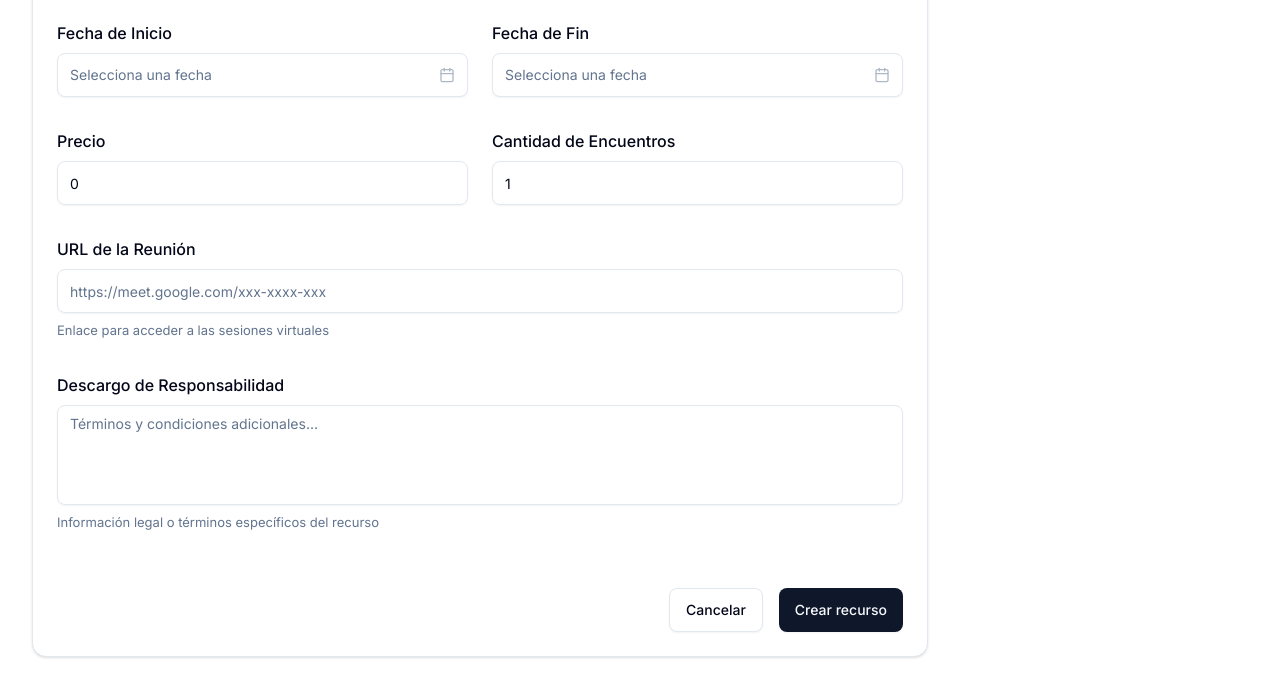
NewResourcePage › shows validation errors for required fields
(page scrolled)
Click the button "Crear recurso".
click(841, 610)  # box [779,588,903,632]
(page scrolled)
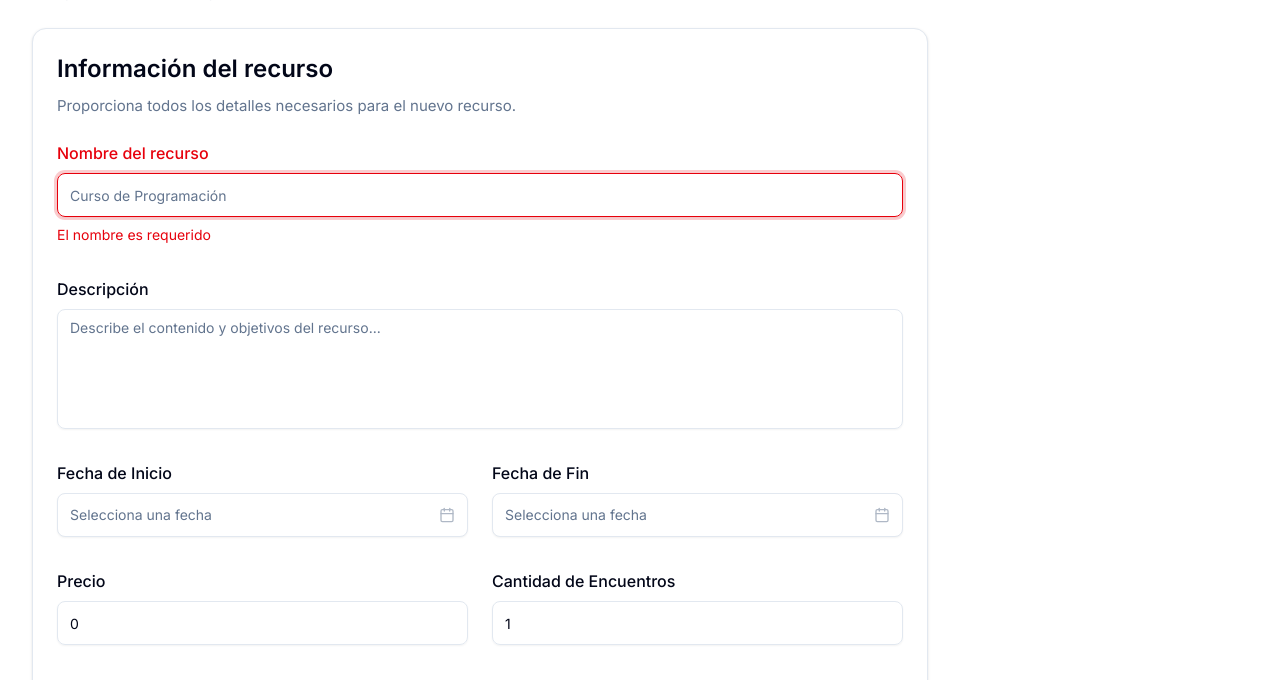
Now the text "El nombre es requerido" is shown, box [57,226,211,243]
